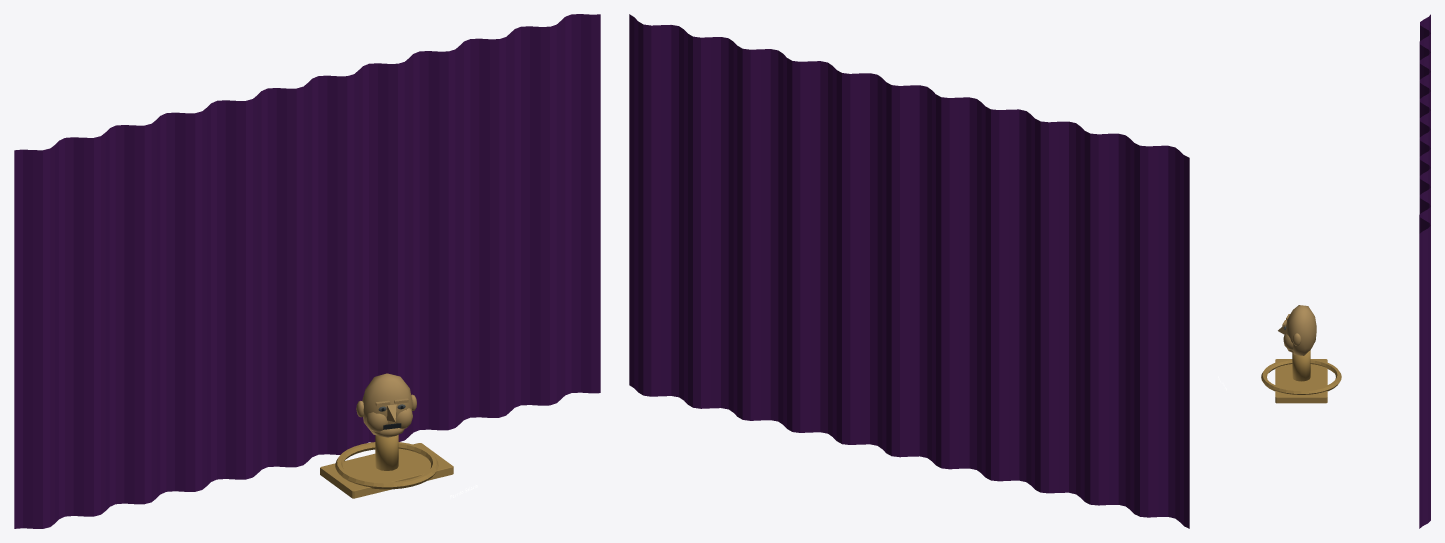
3 views of the same model, side by side, from view 1: azimuth 30°, elevation 25°; view 2: azimuth 150°, elevation 25°; view 3: azimuth 270°, elevation 25° (orthographic). The views are drawn at different scales.
Visible parts, largest first — view 1: H1 / curtain folds, H1 / bust plinth, H1 / plinth rim, H1 / bronze bust skull, H1 / bust neck; view 2: H1 / curtain folds; view 3: H1 / curtain folds, H1 / bust plinth, H1 / bronze bust skull, H1 / plinth rim, H1 / bust neck.
Part boxes in pixels (x1,y1,x2,y2): H1 / curtain folds: [14, 14, 600, 528]; H1 / bust plinth: [320, 443, 453, 498]; H1 / plinth rim: [335, 442, 438, 489]; H1 / bronze bust skull: [362, 373, 412, 435]; H1 / bust neck: [375, 435, 398, 470]; H1 / curtain folds: [629, 14, 1189, 528]; H1 / curtain folds: [1419, 14, 1430, 528]; H1 / bust plinth: [1275, 359, 1327, 403]; H1 / bronze bust skull: [1286, 305, 1316, 355]; H1 / plinth rim: [1261, 359, 1341, 394]; H1 / bust neck: [1292, 350, 1310, 381].
Size of the model in its own units: 16 by 10 by 6.54.
